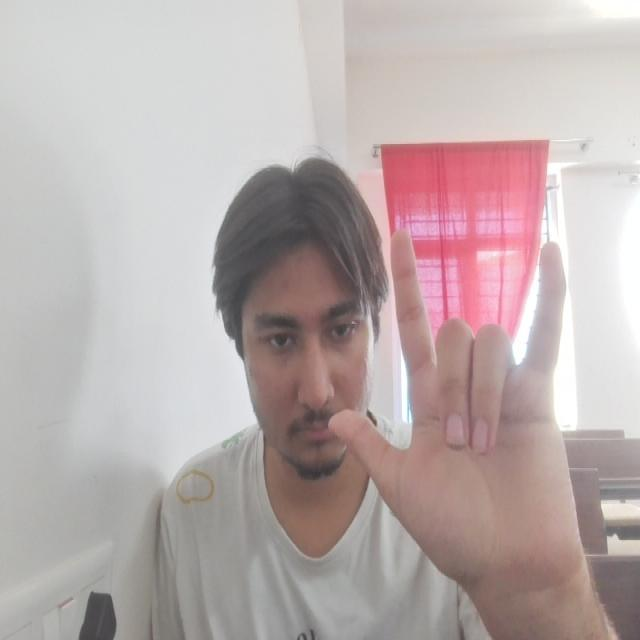iloveyou: (325, 216, 594, 584)
